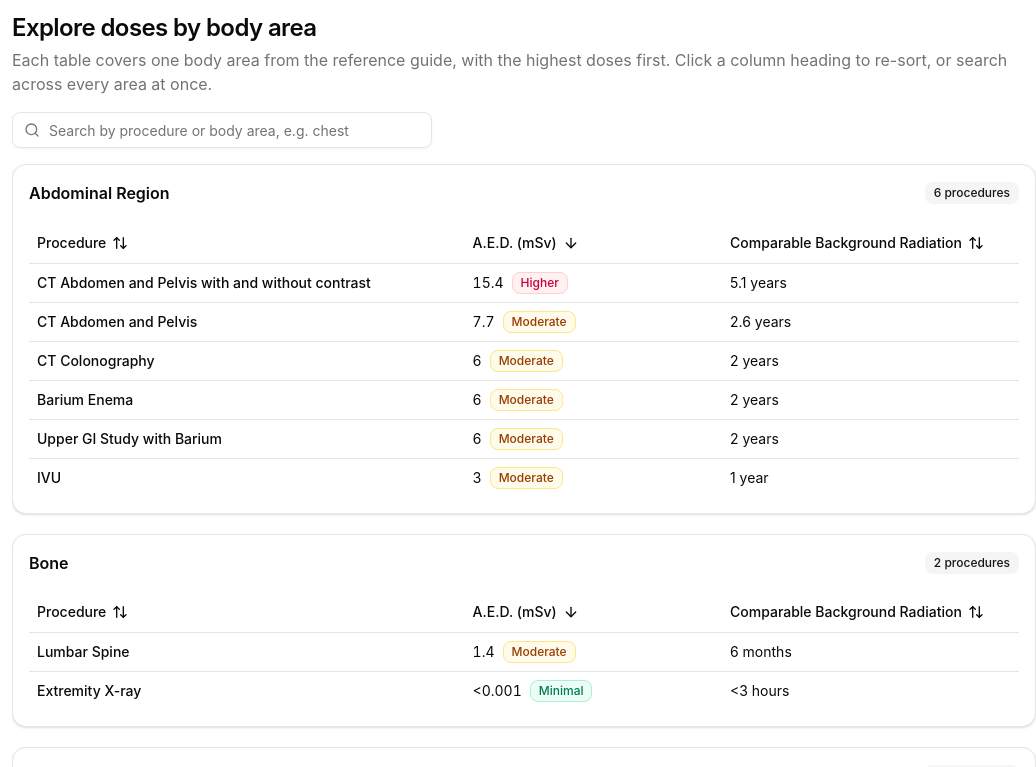
DoseTables › filters procedures across every table when searching by procedure name
The image size is (1036, 767).
Type "mammo" into the search field labelled "Search by procedure or body area" at (222, 130), box [12, 112, 432, 148]
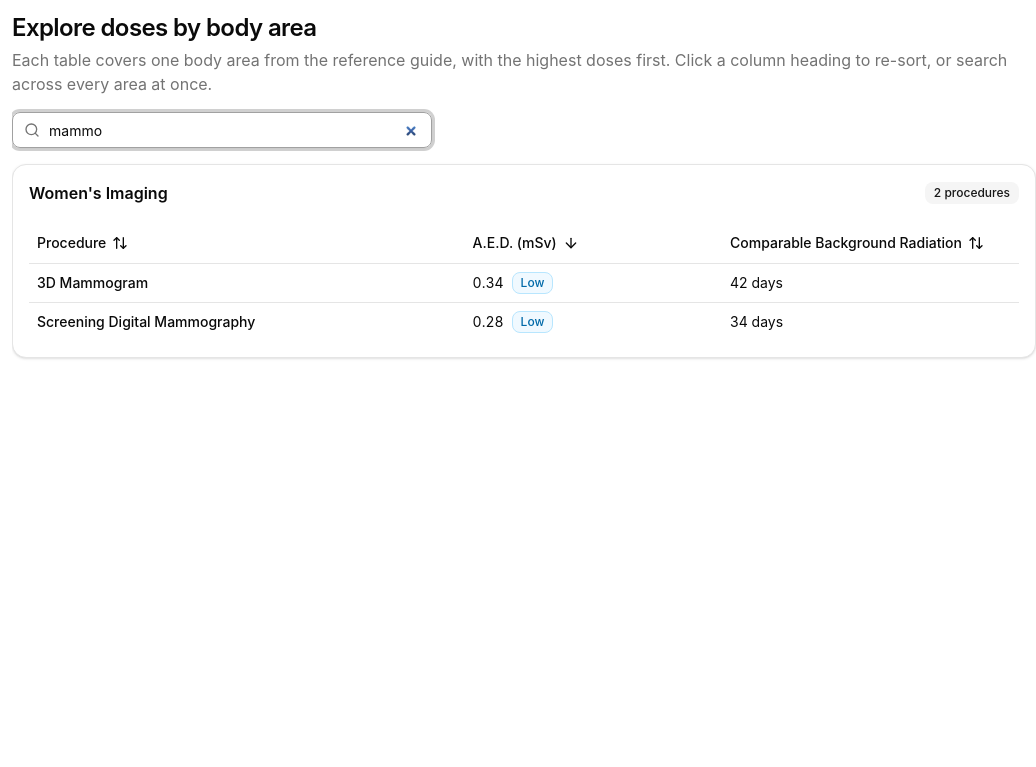
Expected: the text "Women's Imaging" is shown, [29, 181, 168, 205]
Now the text "Screening Digital Mammography" is shown, box [37, 312, 255, 330]
Now the text "3D Mammogram" is shown, box [37, 274, 148, 290]
